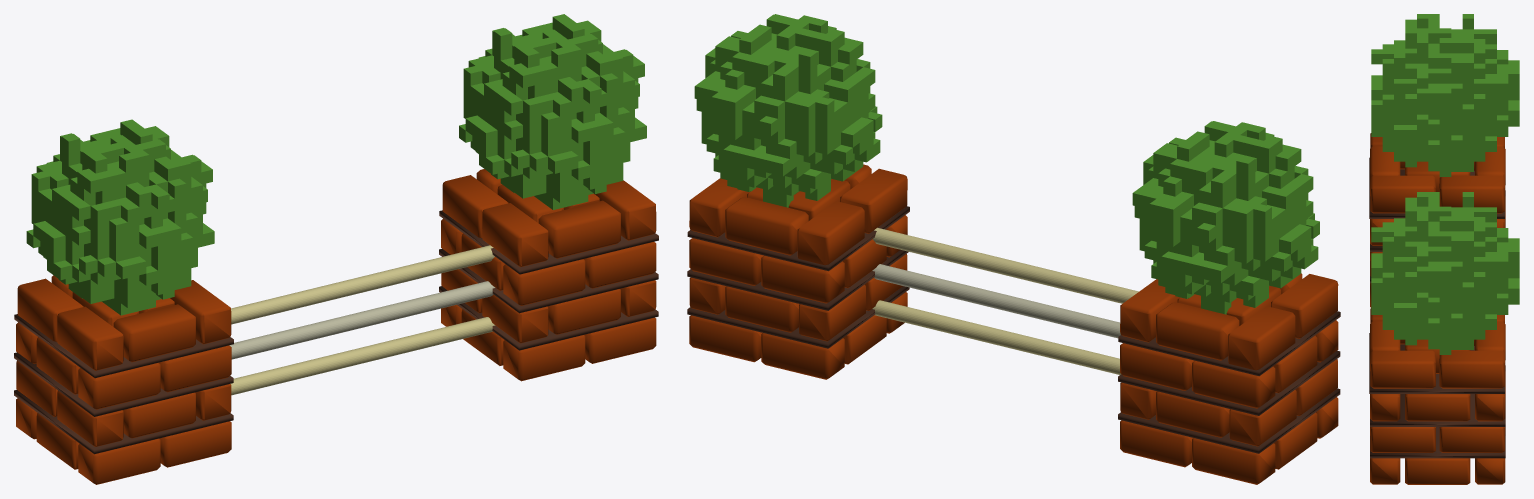
The model's file is Obstaculos1.fbx.
3 renders of one model, left to right at view 1: azimuth 30°, elevation 25°; view 2: azimuth 150°, elevation 25°; view 3: azimuth 270°, elevation 25°, orthographic. The views are drawn at different scales.
Parts seen in each view (by area): view 1: Obstaculos1; view 2: Obstaculos1; view 3: Obstaculos1.
Part boxes in pixels (bbox=[...]): Obstaculos1: bbox=[14, 14, 658, 484]; Obstaculos1: bbox=[687, 14, 1340, 484]; Obstaculos1: bbox=[1369, 14, 1519, 484].
Bounding box in the file's own units: 819 × 399 × 216.
